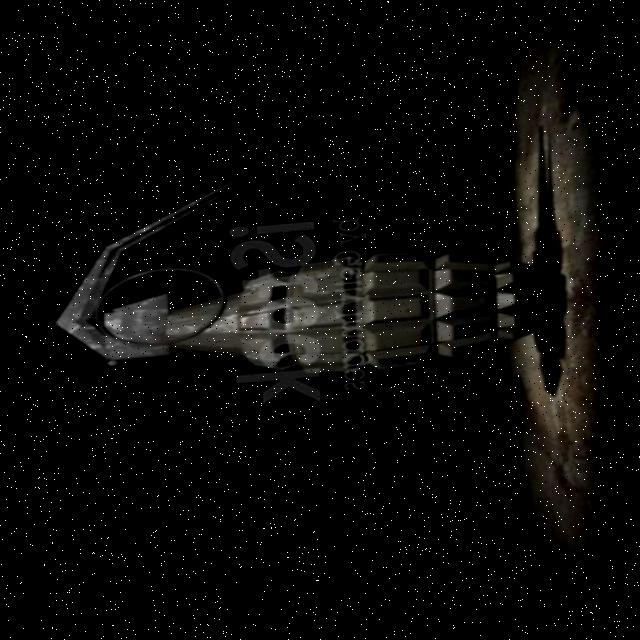grenade: (45, 144, 573, 404)
